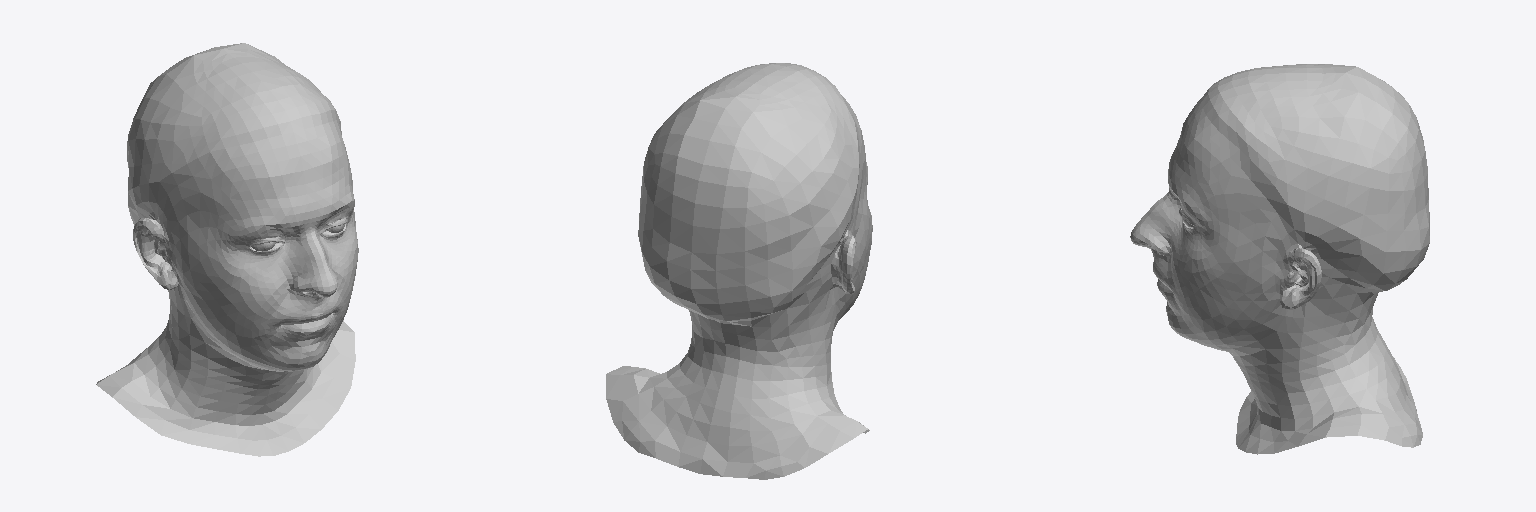
Rendered from flame_head_w_HIFI3D_UV.obj.
The picture shows the model from 3 angles: view 1: azimuth 30°, elevation 25°; view 2: azimuth 150°, elevation 25°; view 3: azimuth 270°, elevation 25°; orthographic projection.
Bounding box in the file's own units: 0.2285 × 0.3245 × 0.2405.